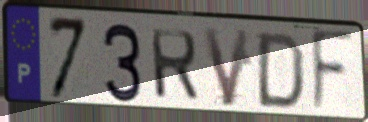3: (99, 19, 144, 105)
7: (47, 14, 90, 104)
D: (254, 30, 308, 112)
F: (309, 27, 357, 118)
R: (148, 27, 201, 104)
V: (199, 26, 253, 110)
